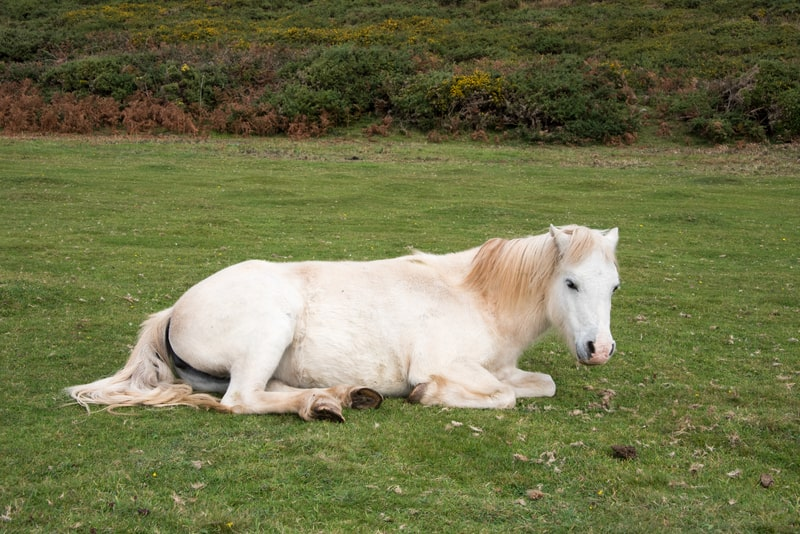Horse: (70, 221, 633, 440)
